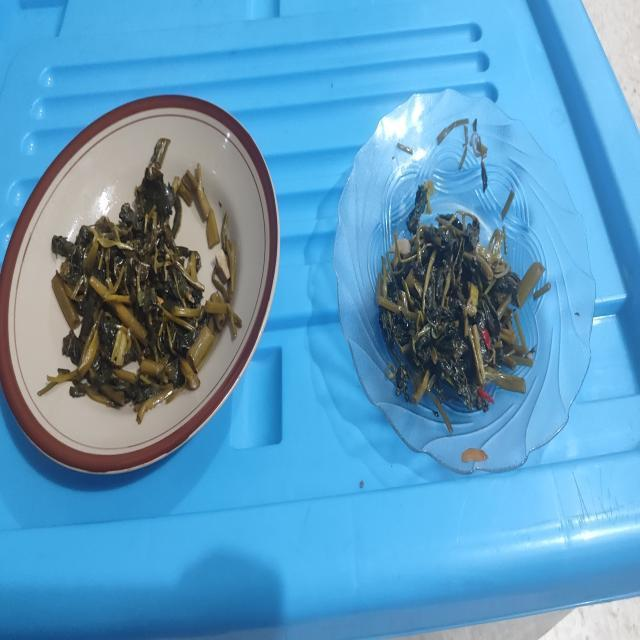tumis_kangkung: (48, 138, 227, 424), (376, 180, 550, 412)
